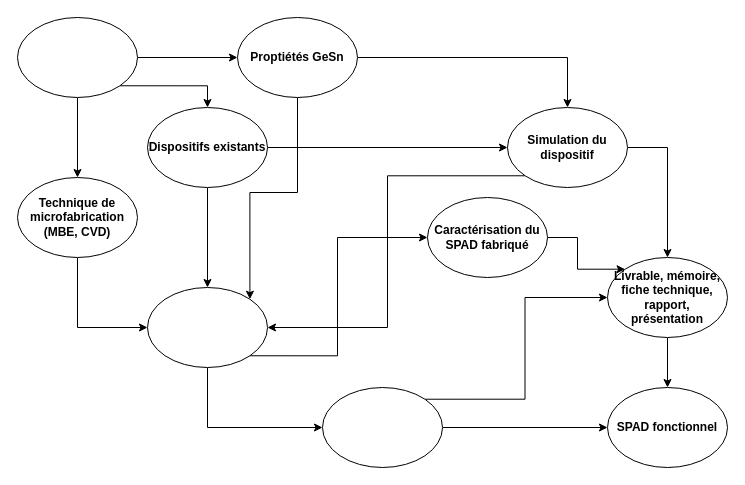
This 745x485 diagram has some shape labels left out. The shapes that lost their labels are listed below. From the top down, each one's centre as x and y in pixels, then its label:
At (77,57): "Conception d'un SPAD 2 micromètres".
At (207,327): "Fabrication du dispositif".
At (382,427): "Optimisation du procédé de fabrication et des paramètres".
